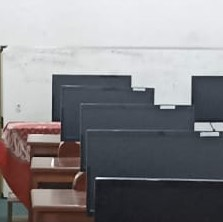monitor: (59, 85, 154, 142), (51, 74, 131, 122)
